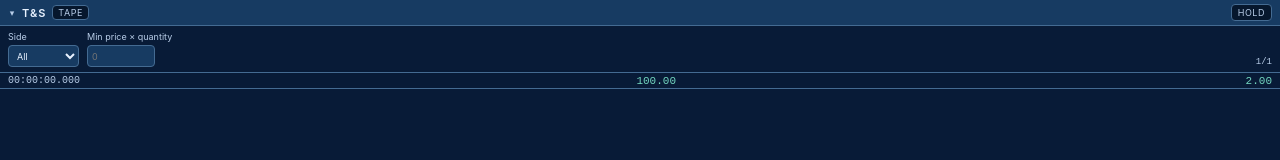
Test: Tape inspection controls › supports explicit hold, continues ingesting, and resumes to newest prints
Click the button with test id "tape-hold".
click(1251, 12)  # box 1231,4 -> 1272,21
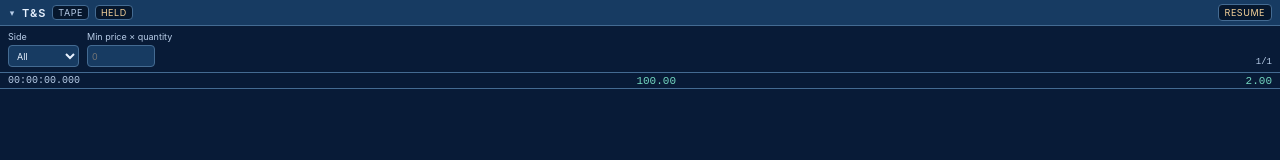
Expected: the number of elements with test id "tape-row" is 1, 0,73 -> 1279,89
Expected: the text "HELD" is shown, 95,5 -> 133,20
Click the button with test id "tape-hold".
click(1245, 12)  # box 1218,4 -> 1272,21
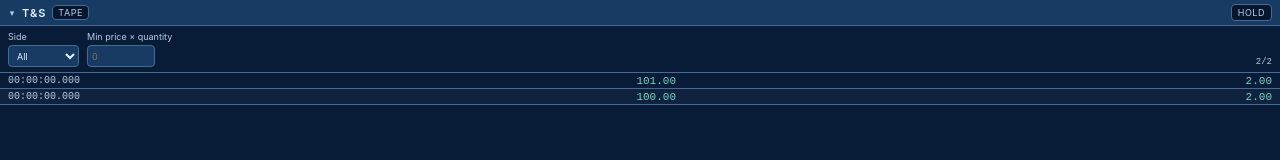
Expected: the number of elements with test id "tape-row" is 2, 0,73 -> 1279,89; 0,89 -> 1279,105
